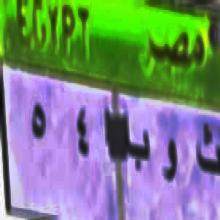4: (75, 100, 92, 165)
5: (28, 100, 49, 146)
baa: (122, 123, 152, 181)
thaa: (192, 120, 220, 189)
waw: (160, 133, 180, 190)
